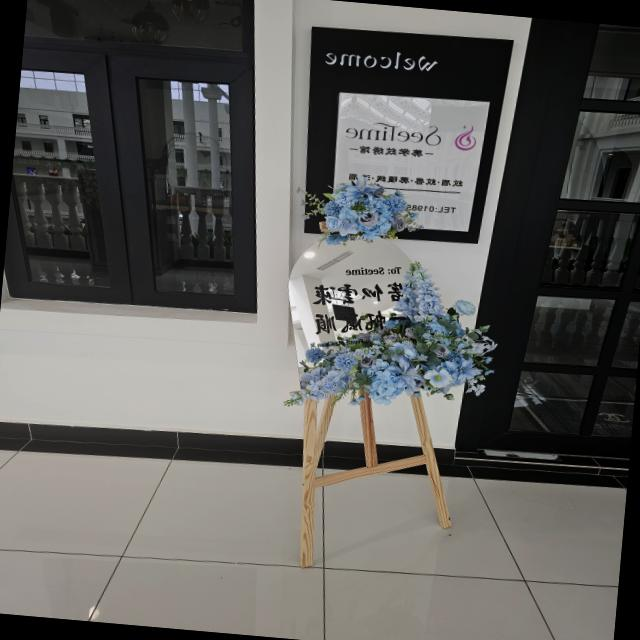footpath: (0, 518, 619, 640)
obstacle: (257, 174, 482, 580)
